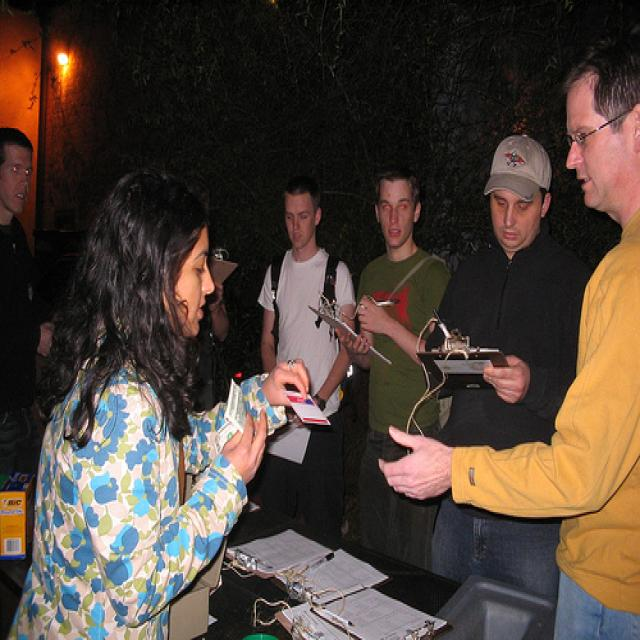person: (380, 44, 640, 639), (5, 163, 311, 639), (426, 133, 594, 609), (335, 167, 454, 573), (257, 180, 358, 539), (1, 126, 59, 474), (185, 283, 230, 416)
